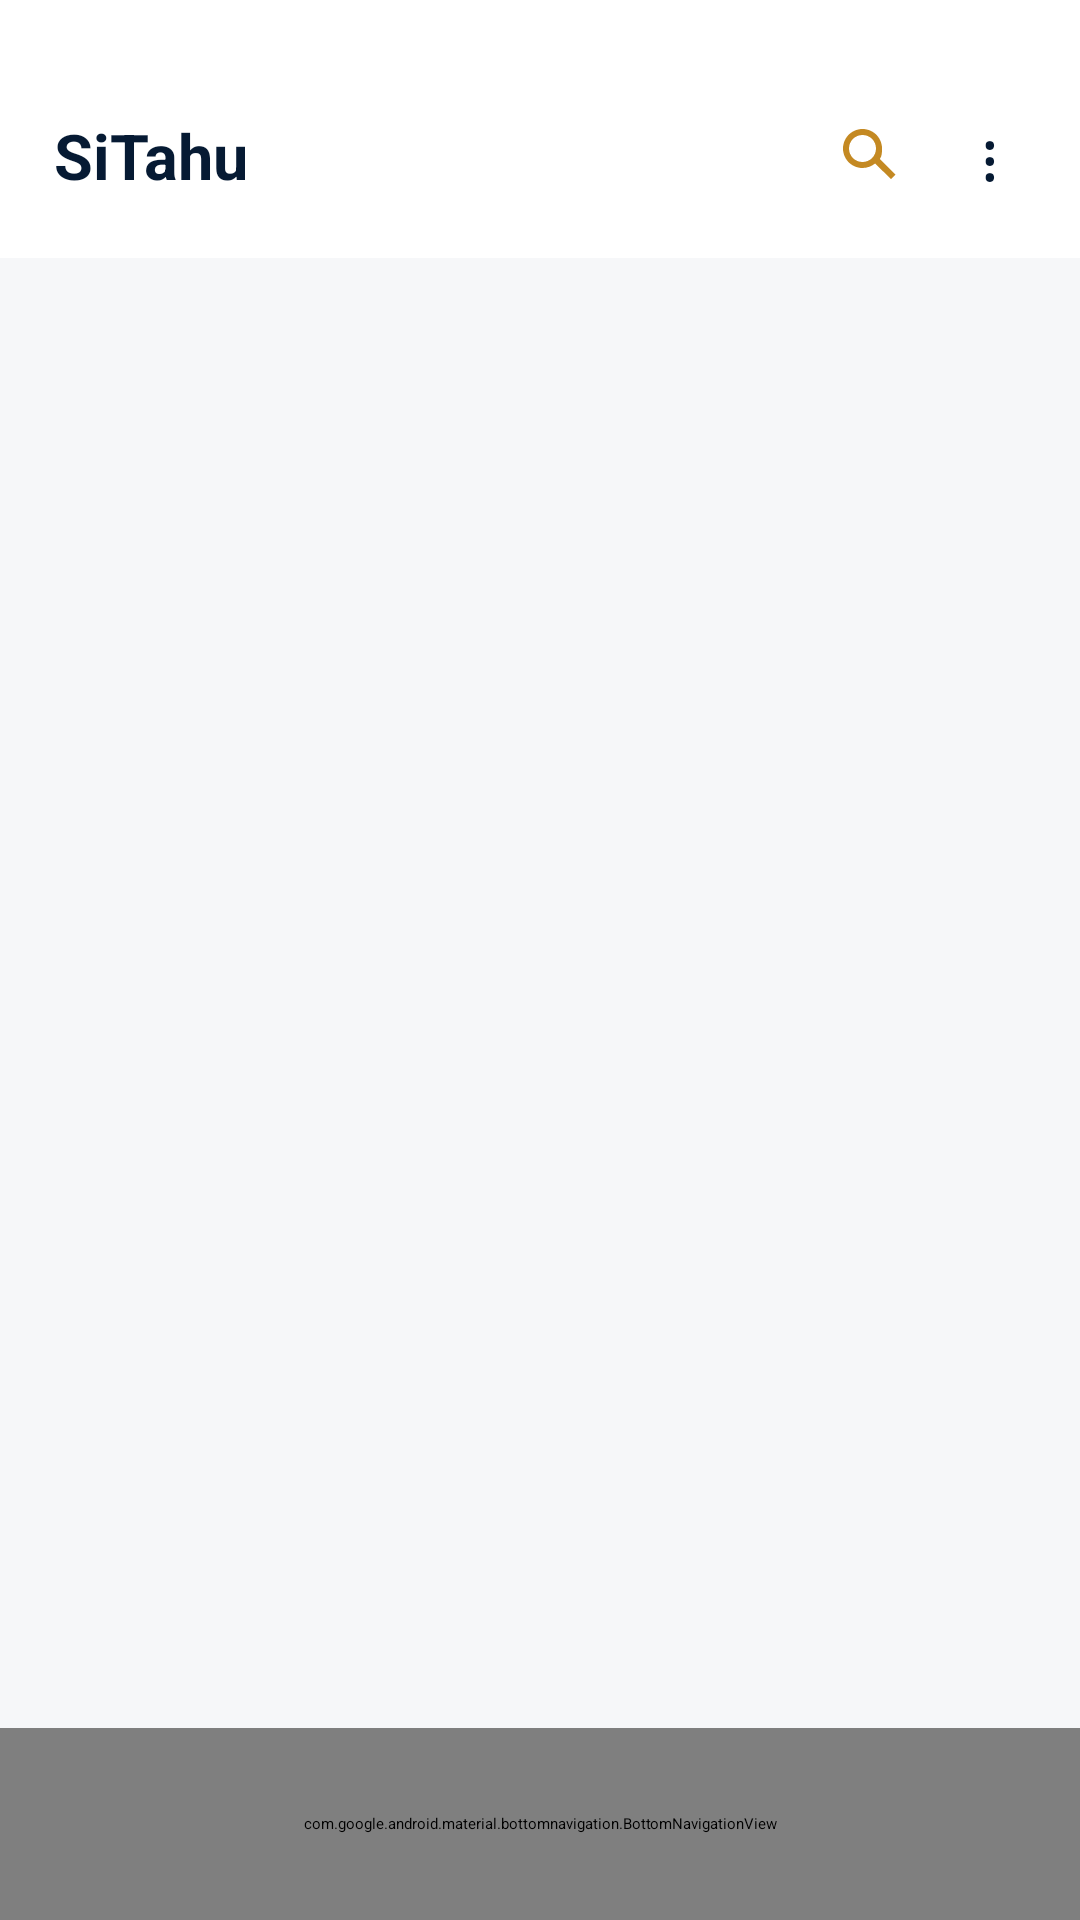

Icon bounding boxes for this 1080*1920 phone screenshot, format (x1, y1, x2, y2):
Cari: (843, 129, 896, 179)
